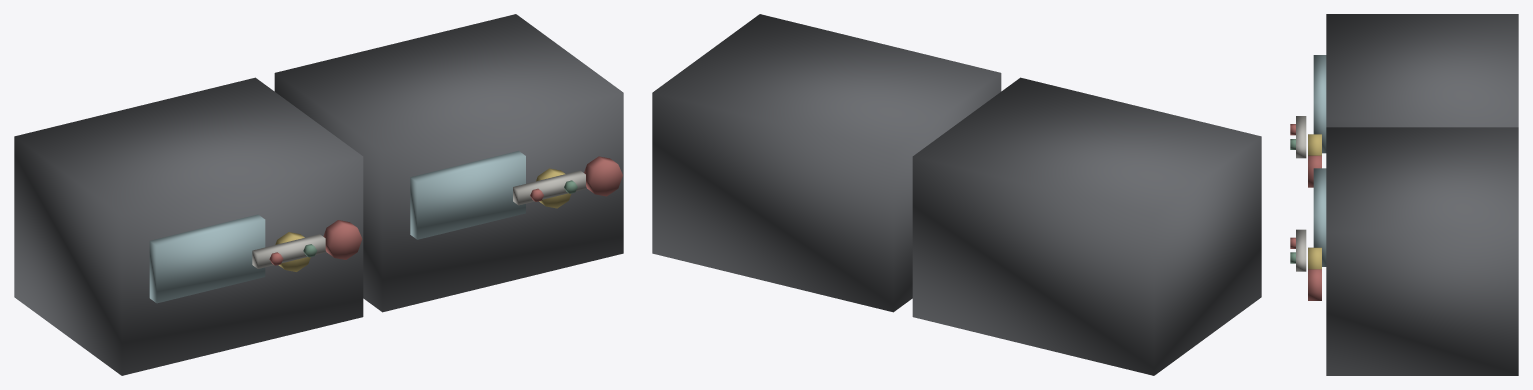
The model's file is component_tester__cluster.glb.
3 views of the same model, side by side, from view 1: azimuth 30°, elevation 25°; view 2: azimuth 150°, elevation 25°; view 3: azimuth 270°, elevation 25° (orthographic). The views are drawn at different scales.
Visible parts, largest first — view 1: world; view 2: world; view 3: world.
Boxes of the visible parts, bbox=[...] form: world: bbox=[14, 14, 623, 375]; world: bbox=[652, 14, 1261, 375]; world: bbox=[1290, 14, 1518, 375].
Bounding box in the file's own units: 0.9152 × 0.28 × 0.4035.
